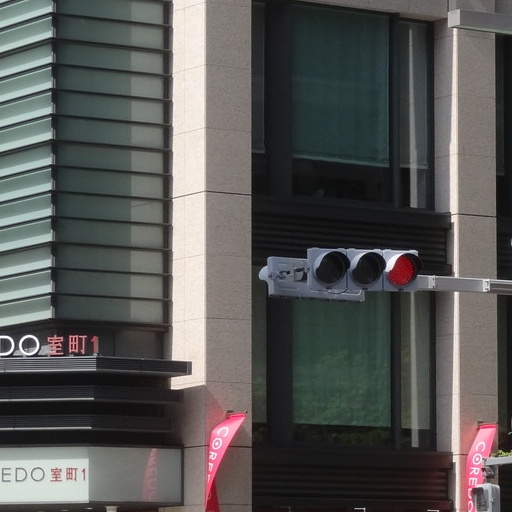Traffic_Signal_Red: (304, 235, 424, 295)
